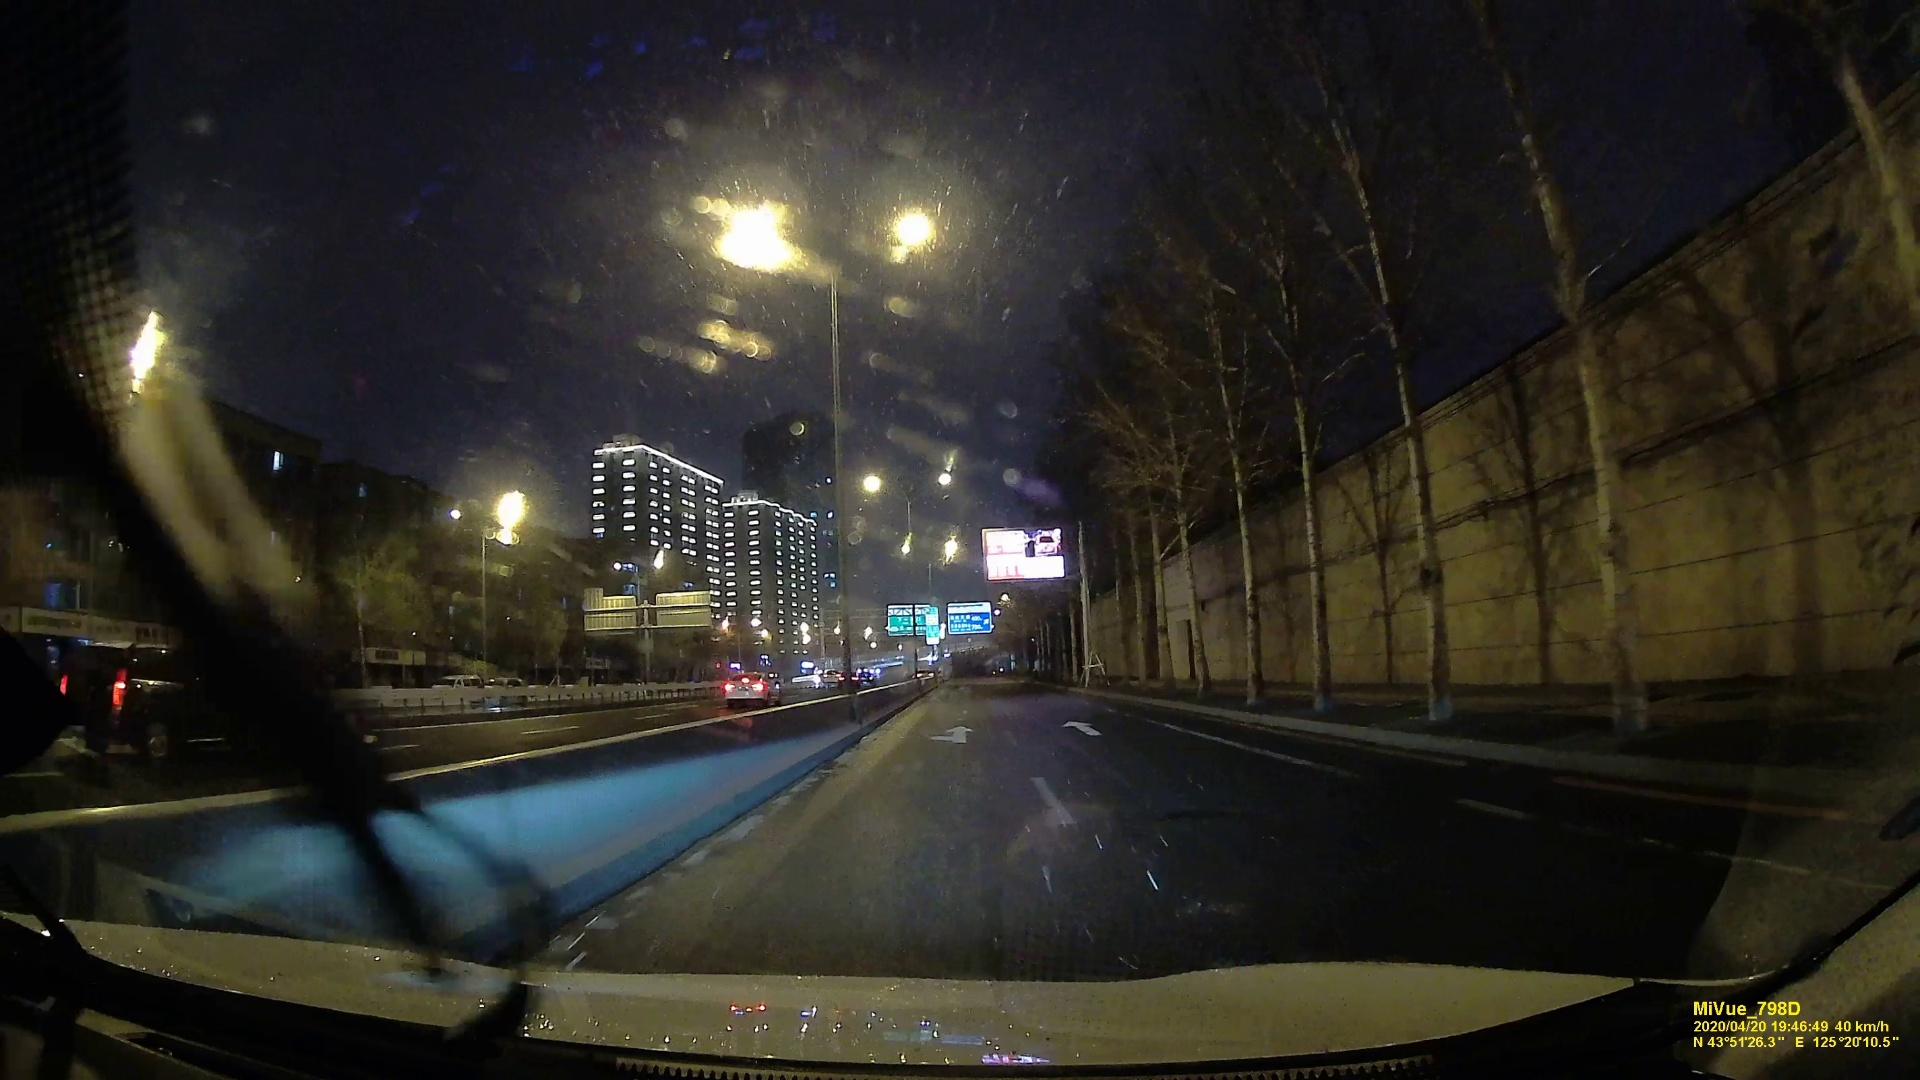traffic_sign: (947, 603, 992, 636), (889, 604, 928, 636)
vehicle: (720, 673, 779, 702)
